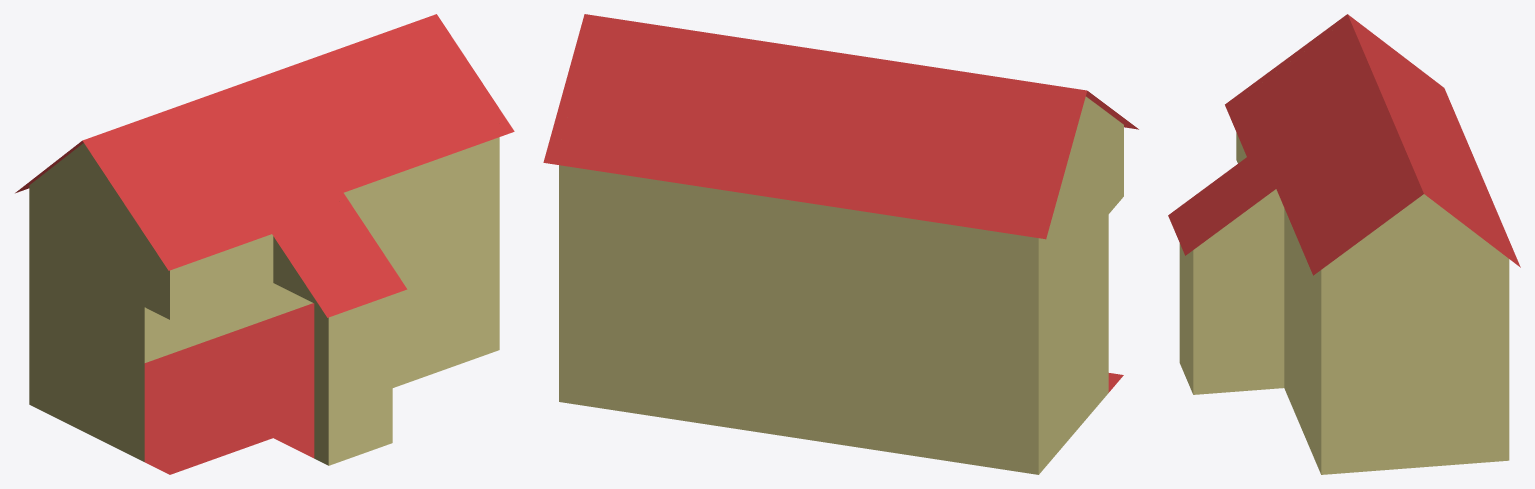
3 renders of one model, left to right at view 1: azimuth 30°, elevation 25°; view 2: azimuth 150°, elevation 25°; view 3: azimuth 270°, elevation 25°, orthographic. The views are drawn at different scales.
Size of the model in its own units: 23.41 by 17.84 by 15.47.
